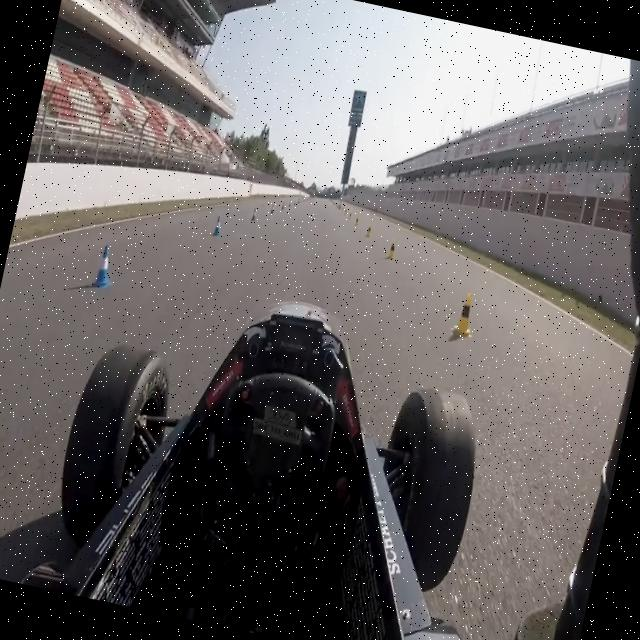blue_cone: (90, 239, 120, 294), (212, 215, 224, 238), (250, 208, 258, 223), (270, 202, 276, 214)
yellow_cone: (450, 289, 480, 337), (386, 238, 398, 261), (364, 222, 374, 239), (353, 214, 360, 227)
